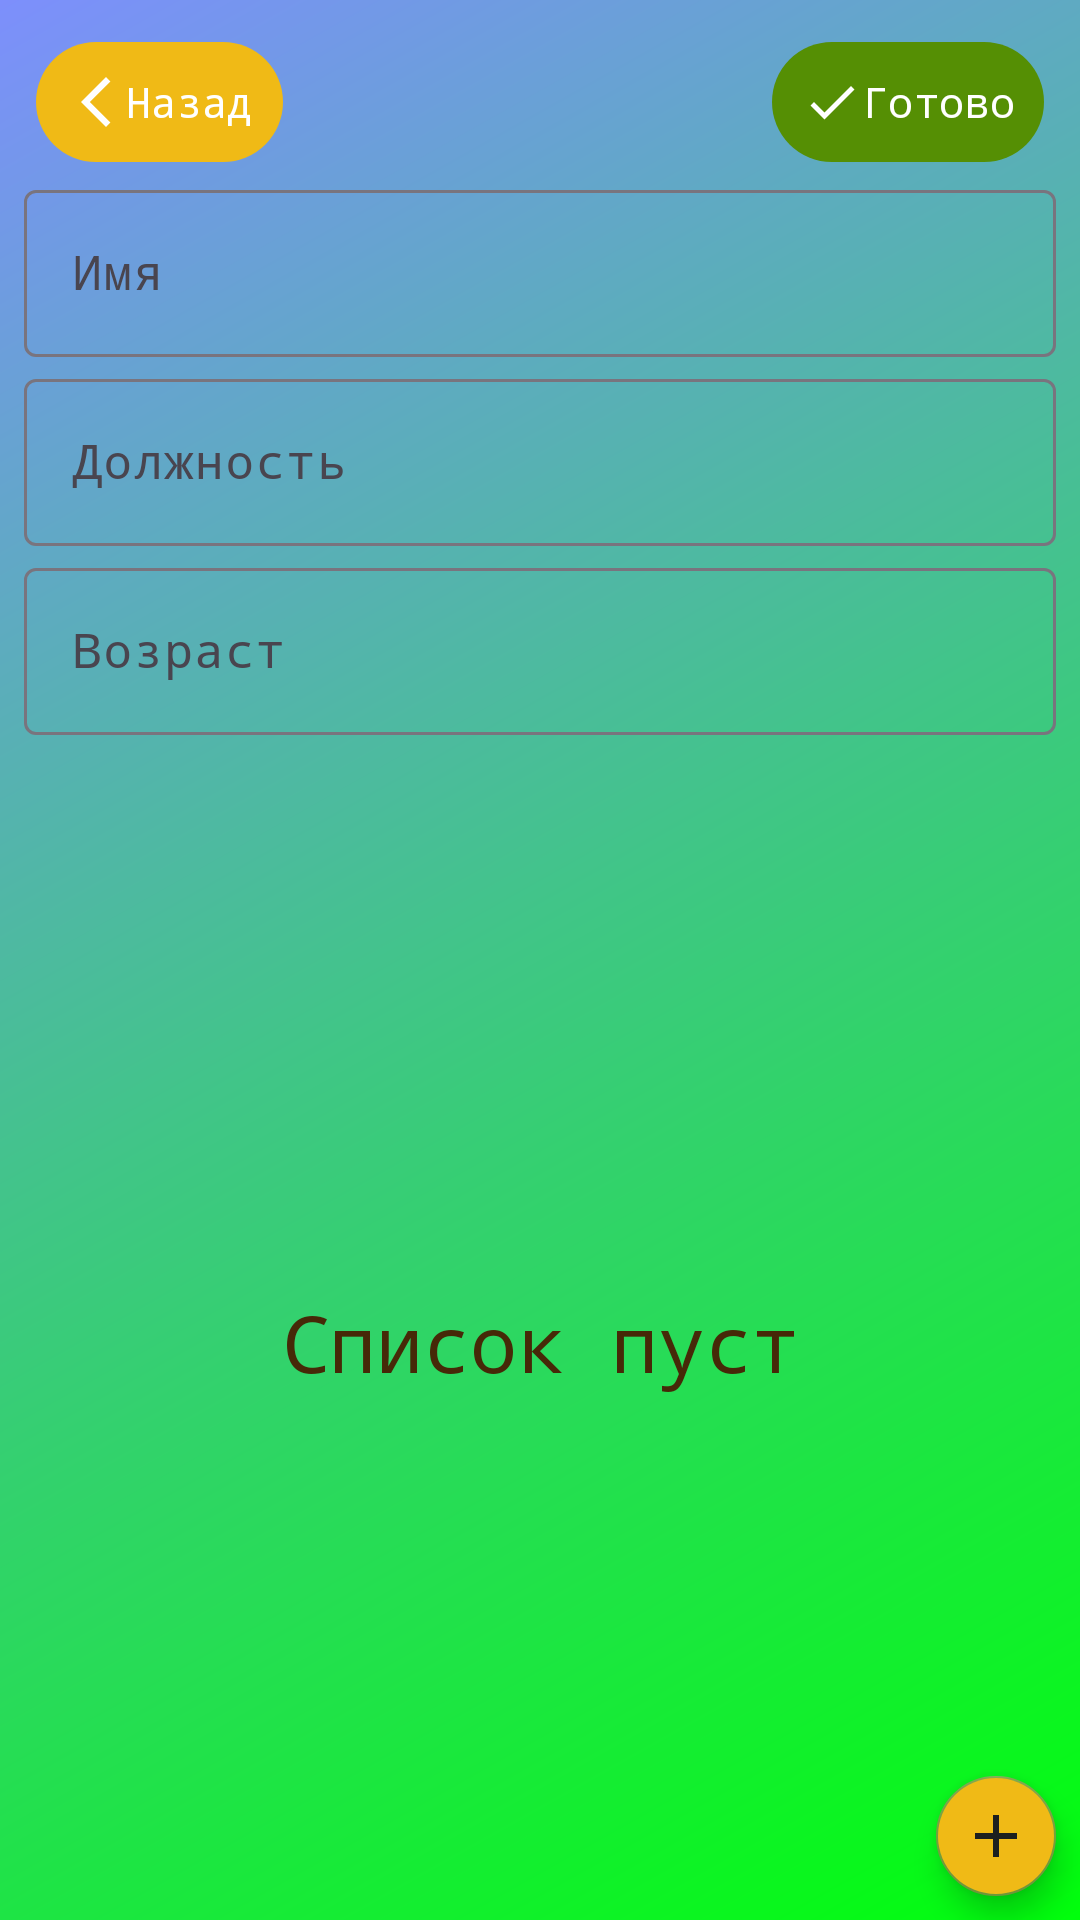

Point at icon controls on the screen. Image size 1080x1920, points as (x,y).
add: (996,1836)
